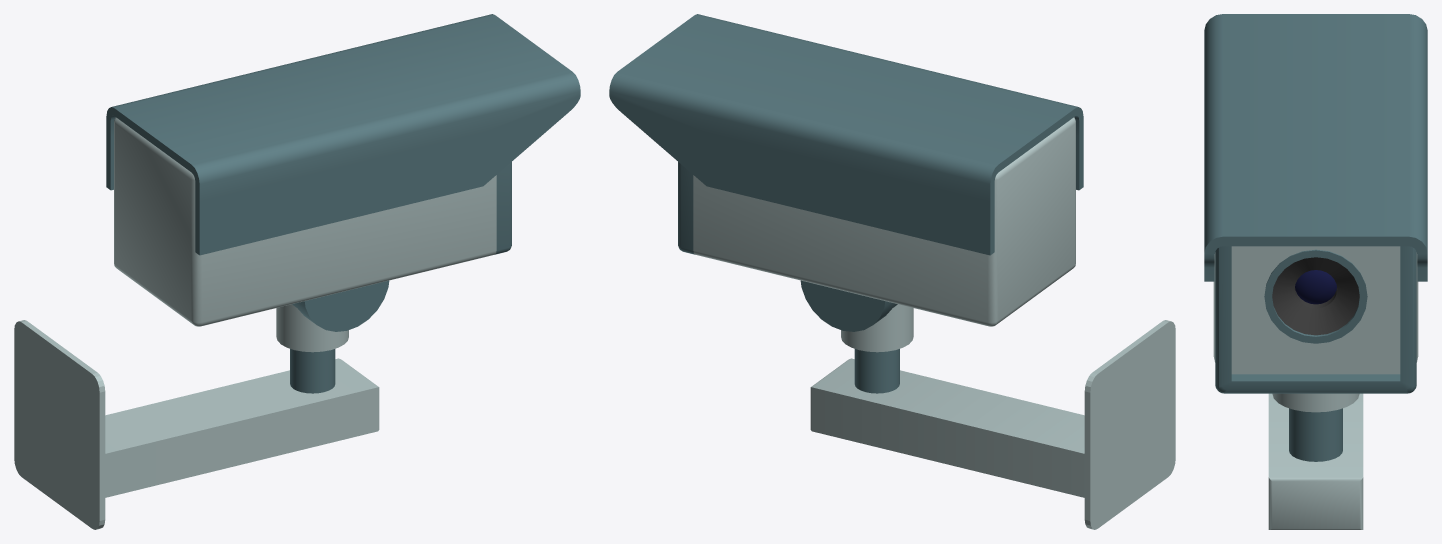
Rendered from airport-baggage-scanner.glb.
3 renders of one model, left to right at view 1: azimuth 30°, elevation 25°; view 2: azimuth 150°, elevation 25°; view 3: azimuth 270°, elevation 25°, orthographic. The views are drawn at different scales.
Visible parts, largest first — view 1: 17.2.Model_AIRPORT_0; view 2: 17.2.Model_AIRPORT_0; view 3: 17.2.Model_AIRPORT_0.
Boxes of the visible parts, x1,y1,x2,y2 form: 17.2.Model_AIRPORT_0: (14, 14, 580, 529); 17.2.Model_AIRPORT_0: (609, 14, 1175, 529); 17.2.Model_AIRPORT_0: (1204, 14, 1427, 529).
Bounding box in the file's own units: 0.6826 × 0.469 × 0.231.
Materials: 1 (1 with a texture image).
